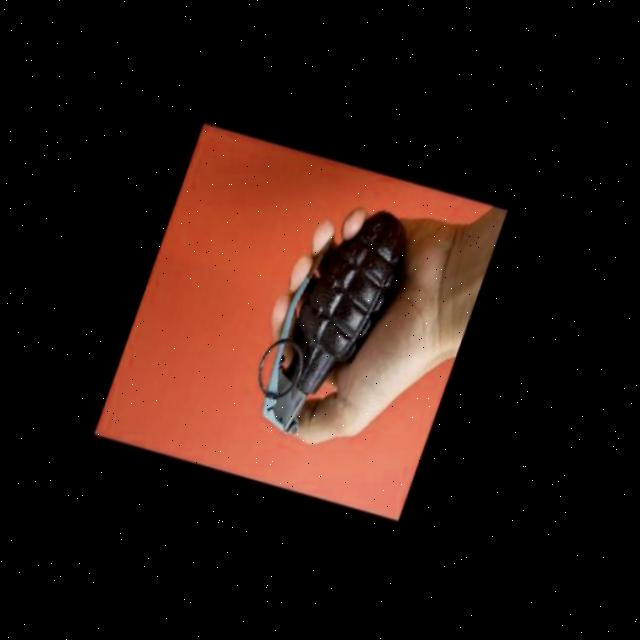grenade: (239, 177, 435, 462)
